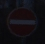No entry: (6, 5, 40, 39)
